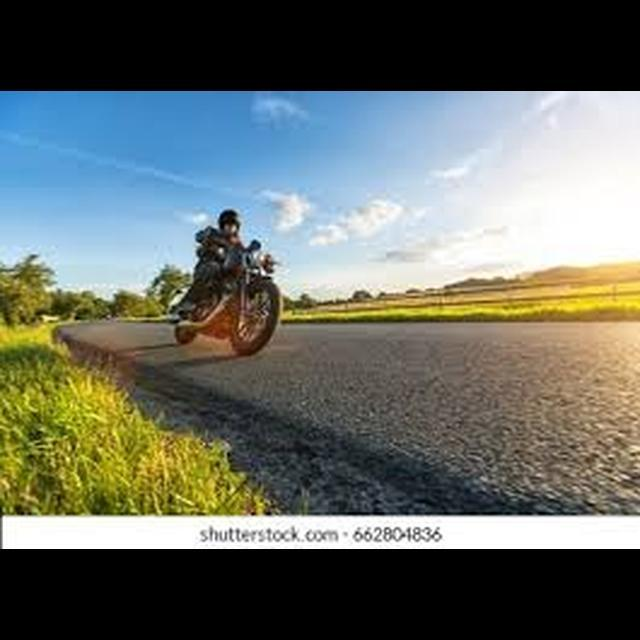motorcycle: (165, 235, 284, 360)
